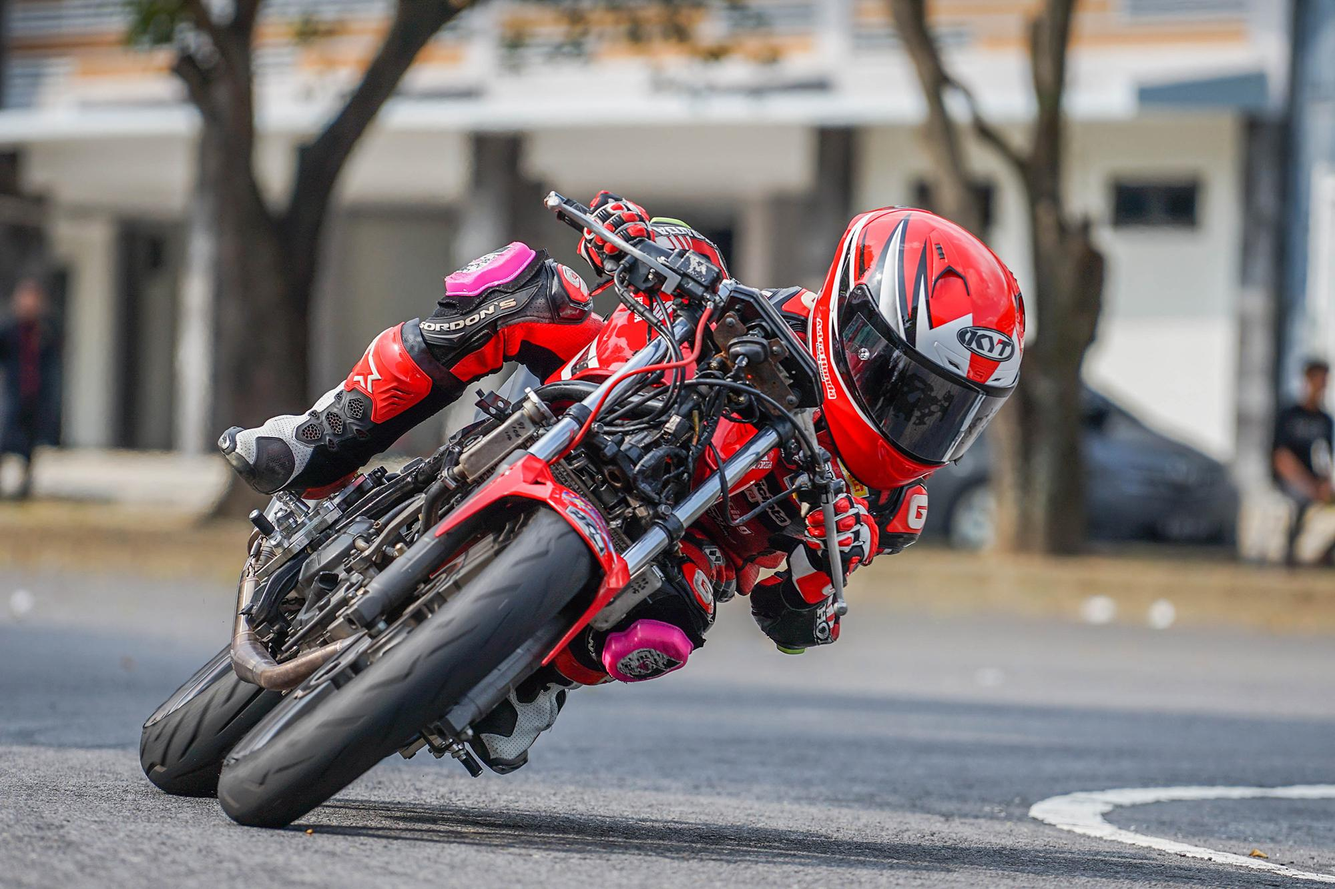helmet: (804, 203, 1027, 492)
